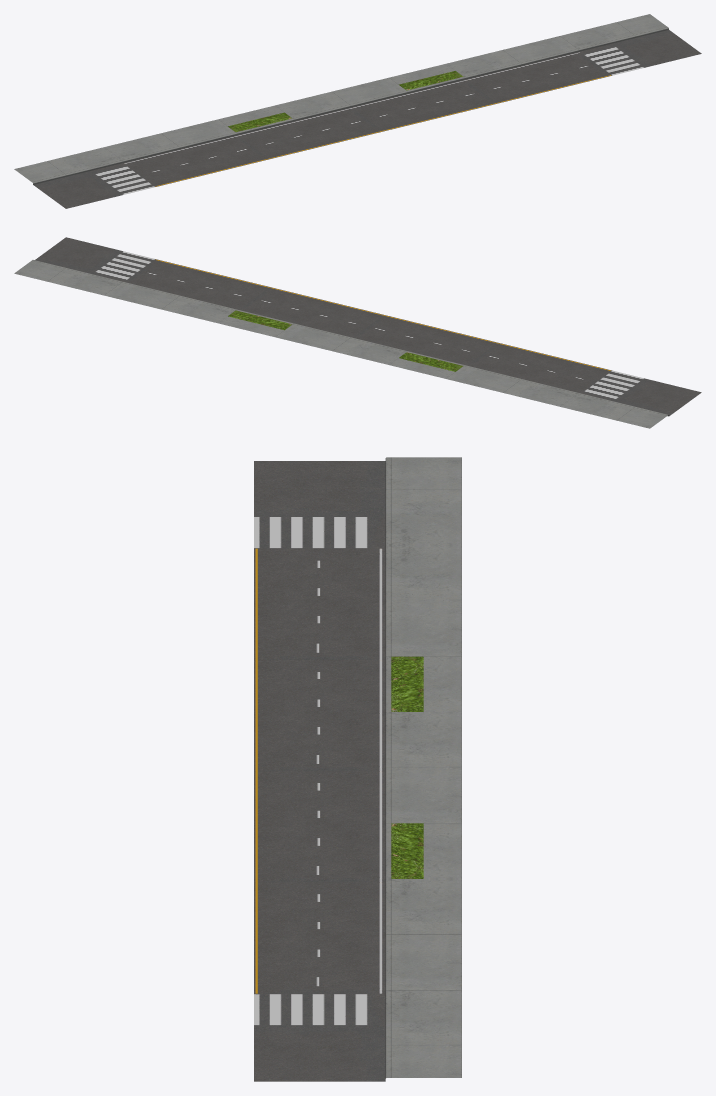
3 views of the same model, one above another, from view 1: azimuth 30°, elevation 25°; view 2: azimuth 150°, elevation 25°; view 3: azimuth 270°, elevation 25° (orthographic). The views are drawn at different scales.
Visible parts, largest first — view 1: Road_Endcap10; view 2: Road_Endcap10; view 3: Road_Endcap10.
Part boxes in pixels (x1,y1,x2,y2): Road_Endcap10: [14, 14, 701, 208]; Road_Endcap10: [14, 237, 701, 428]; Road_Endcap10: [254, 457, 461, 1081].
Bounding box in the file's own units: 76.75 × 0.235 × 10.88.
2 materials, 2 textured.
